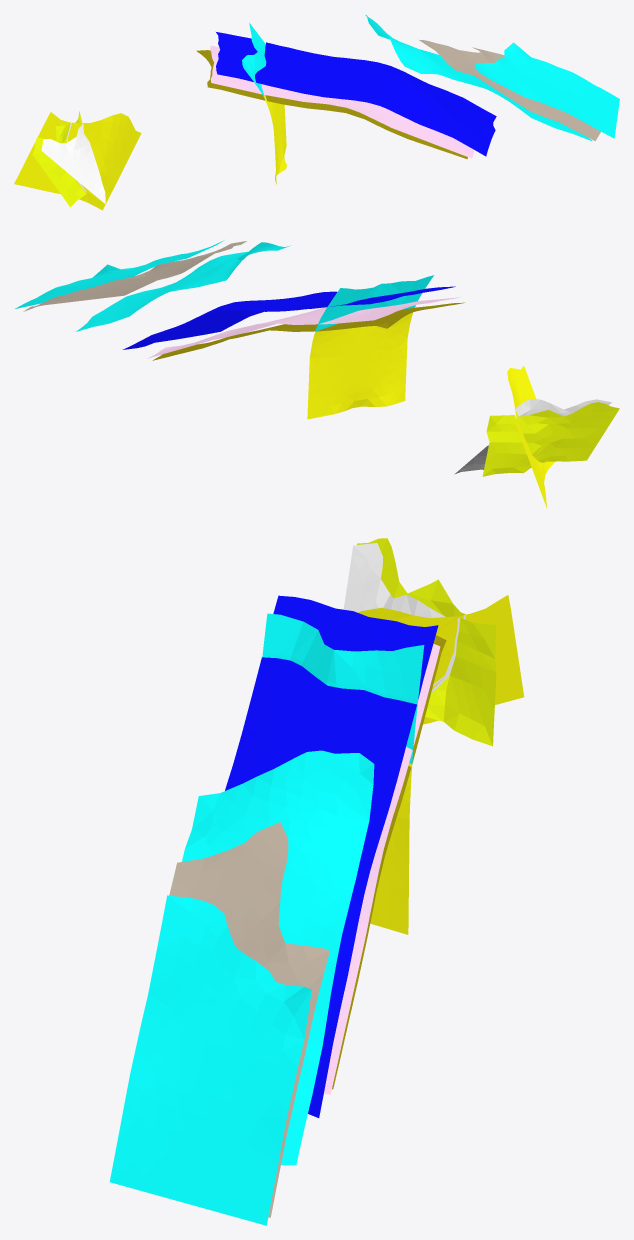
File: tunnel_001_color_1.glb
3 views of the same model, one above another, from view 1: azimuth 30°, elevation 25°; view 2: azimuth 150°, elevation 25°; view 3: azimuth 270°, elevation 25° (orthographic). The views are drawn at different scales.
Visible parts, largest first — view 1: Layer:P2Q F5 YOU 2_mm0, Layer:T1J1 5_mm0, Layer:F6 11_mm0, Layer:p3c 6_mm0, Layer:P1L F5 YOU 3_mm0, Layer:P2M F5 YOU 5 1_mm0, Layer:S2H ZUO 1_mm0, Layer:p2q 5 1_mm0, Layer:F4 ZUO 4_mm0, Layer:P2M F5 ZUO 2_mm0, Layer:P1L F5 YOU 4_mm0, Layer:S2H F5 ZUO 9_mm0 (+3 smaller); view 2: Layer:S2H F5 ZUO 9_mm0, Layer:F4 ZUO 4_mm0, Layer:P2Q F5 YOU 2_mm0, Layer:P2M F5 YOU 5 1_mm0, Layer:p3c 6_mm0, Layer:F4 YOU 5_mm0, Layer:T1J1 5_mm0, Layer:F5 7_mm0, Layer:P1L F5 YOU 3_mm0, Layer:P1L F5 ZUO 5_mm0, Layer:F5 11_mm0, Layer:S2H F5 ZUO 5_mm0 (+5 smaller); view 3: Layer:T1J1 5_mm0, Layer:P2M F5 YOU 5 1_mm0, Layer:P2Q F5 YOU 2_mm0, Layer:p3c 6_mm0, Layer:F5 7_mm0, Layer:F4 YOU 5_mm0, Layer:P2M F5 ZUO 2_mm0, Layer:p2q 5 1_mm0, Layer:S2H F5 ZUO 9_mm0, Layer:S2H ZUO 1_mm0, Layer:P1L F5 YOU 3_mm0, Layer:F4 ZUO 4_mm0 (+2 smaller).
Part boxes in pixels (left/top/right/bottom): Layer:P2Q F5 YOU 2_mm0: left=255, top=42, right=496, bottom=156; Layer:T1J1 5_mm0: left=474, top=42, right=619, bottom=138; Layer:F6 11_mm0: left=83, top=113, right=141, bottom=203; Layer:p3c 6_mm0: left=418, top=39, right=600, bottom=141; Layer:P1L F5 YOU 3_mm0: left=261, top=84, right=474, bottom=158; Layer:P2M F5 YOU 5 1_mm0: left=365, top=14, right=592, bottom=141; Layer:S2H ZUO 1_mm0: left=41, top=123, right=105, bottom=203; Layer:p2q 5 1_mm0: left=14, top=112, right=105, bottom=210; Layer:F4 ZUO 4_mm0: left=32, top=123, right=85, bottom=207; Layer:P2M F5 ZUO 2_mm0: left=216, top=32, right=257, bottom=81; Layer:P1L F5 YOU 4_mm0: left=265, top=95, right=467, bottom=159; Layer:S2H F5 ZUO 9_mm0: left=264, top=95, right=286, bottom=184; Layer:S2H F5 ZUO 9_mm0: left=307, top=312, right=413, bottom=419; Layer:F4 ZUO 4_mm0: left=516, top=402, right=619, bottom=462; Layer:P2Q F5 YOU 2_mm0: left=123, top=291, right=337, bottom=349; Layer:P2M F5 YOU 5 1_mm0: left=76, top=242, right=290, bottom=331; Layer:p3c 6_mm0: left=23, top=241, right=246, bottom=311; Layer:F4 YOU 5_mm0: left=482, top=415, right=531, bottom=476; Layer:T1J1 5_mm0: left=15, top=240, right=224, bottom=308; Layer:F5 7_mm0: left=327, top=275, right=433, bottom=306; Layer:P1L F5 YOU 3_mm0: left=147, top=307, right=326, bottom=358; Layer:P1L F5 ZUO 5_mm0: left=319, top=297, right=460, bottom=324; Layer:F5 11_mm0: left=318, top=293, right=422, bottom=324; Layer:S2H F5 ZUO 5_mm0: left=316, top=302, right=464, bottom=331; Layer:T1J1 5_mm0: left=109, top=895, right=311, bottom=1225; Layer:P2M F5 YOU 5 1_mm0: left=182, top=750, right=374, bottom=1165; Layer:P2Q F5 YOU 2_mm0: left=225, top=657, right=416, bottom=1117; Layer:p3c 6_mm0: left=169, top=822, right=330, bottom=1217; Layer:F5 7_mm0: left=262, top=613, right=424, bottom=700; Layer:F4 YOU 5_mm0: left=425, top=618, right=496, bottom=746; Layer:P2M F5 ZUO 2_mm0: left=273, top=595, right=438, bottom=698; Layer:p2q 5 1_mm0: left=423, top=595, right=524, bottom=724; Layer:S2H F5 ZUO 9_mm0: left=370, top=763, right=412, bottom=934; Layer:S2H ZUO 1_mm0: left=343, top=543, right=445, bottom=617; Layer:P1L F5 YOU 3_mm0: left=324, top=746, right=412, bottom=1094; Layer:F4 ZUO 4_mm0: left=357, top=538, right=465, bottom=616.
Bounding box in the file's own units: 4591 × 1000 × 1460.
